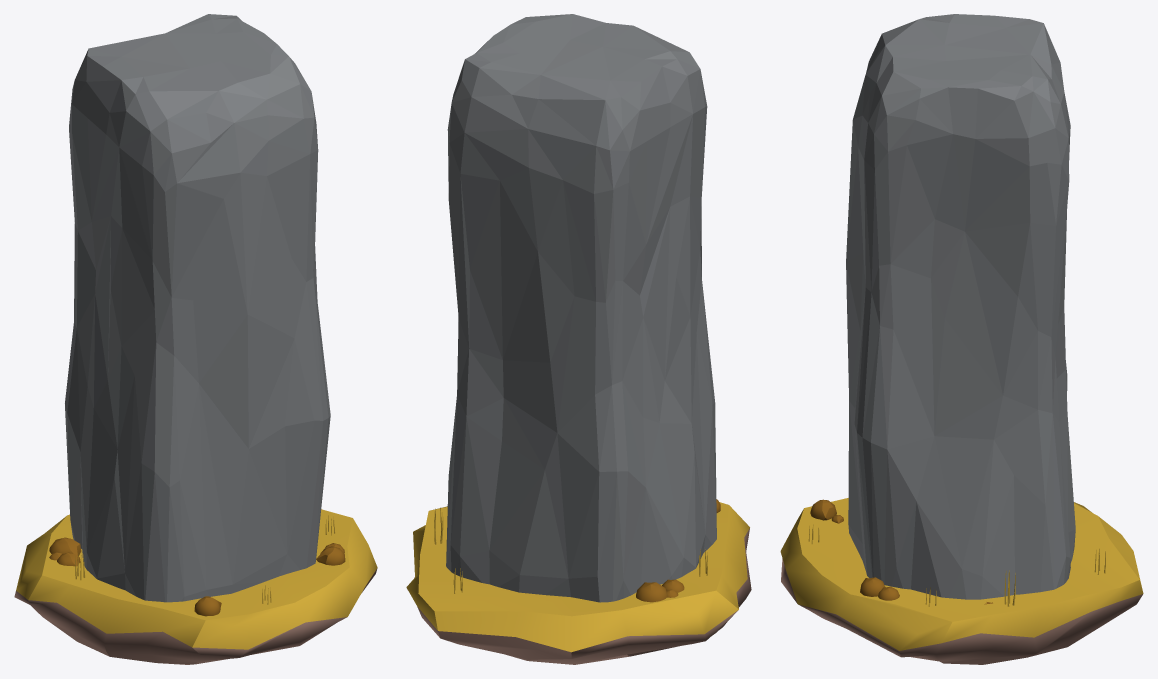
The model's file is vertical_island_fall_2.fbx.
3 views of the same model, side by side, from view 1: azimuth 30°, elevation 25°; view 2: azimuth 150°, elevation 25°; view 3: azimuth 270°, elevation 25° (orthographic).
Visible parts, largest first — view 1: Island_Vertical_Autumn_2.001; view 2: Island_Vertical_Autumn_2.001; view 3: Island_Vertical_Autumn_2.001.
Part boxes in pixels (x1=…): Island_Vertical_Autumn_2.001: x1=14, y1=14, x2=377, y2=664; Island_Vertical_Autumn_2.001: x1=406, y1=14, x2=751, y2=664; Island_Vertical_Autumn_2.001: x1=780, y1=14, x2=1143, y2=664.
Size of the model in its own units: 18.81 by 32.09 by 18.36.
